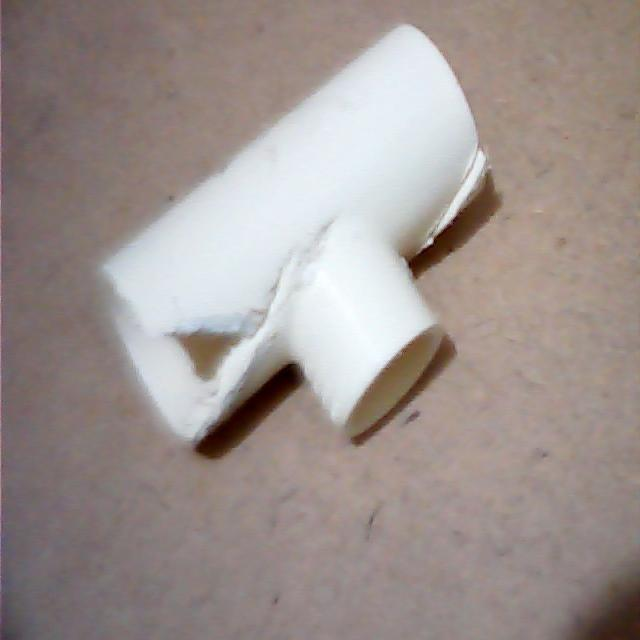Defective: (145, 252, 302, 444), (412, 141, 494, 247)
T Joint: (94, 24, 503, 449)
